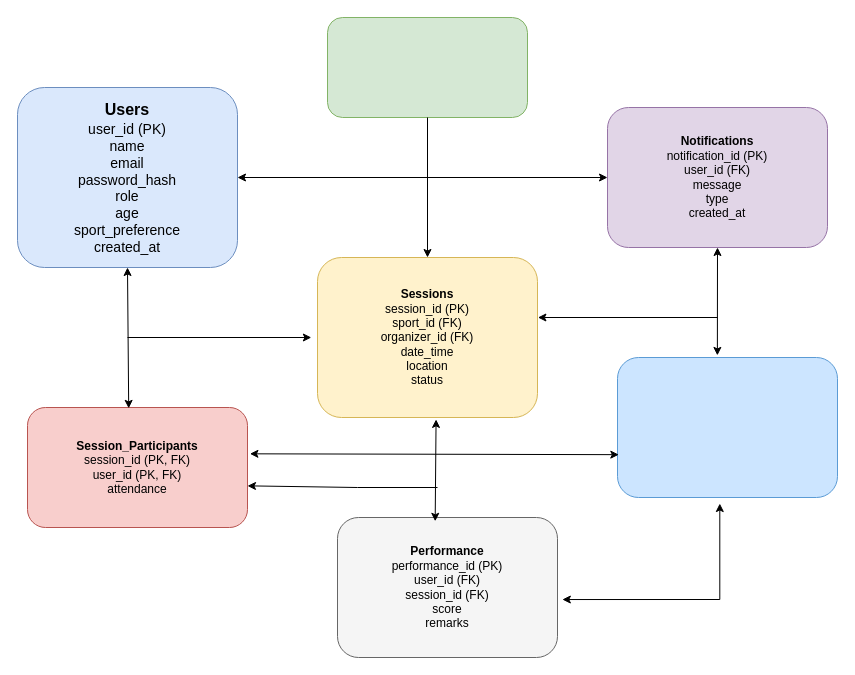
The diagram is 855 pixels wide and 675 high, and some of its shapes have lost their labels. The shapes that lost their labels are listed below. From the top down, each one's centre as x and y in pixels, then its label:
the point at 427,67: Sports sport_id (PK) sport_name
the point at 727,427: AuthLogs log_id (PK) user_id (FK) login_time device platform
